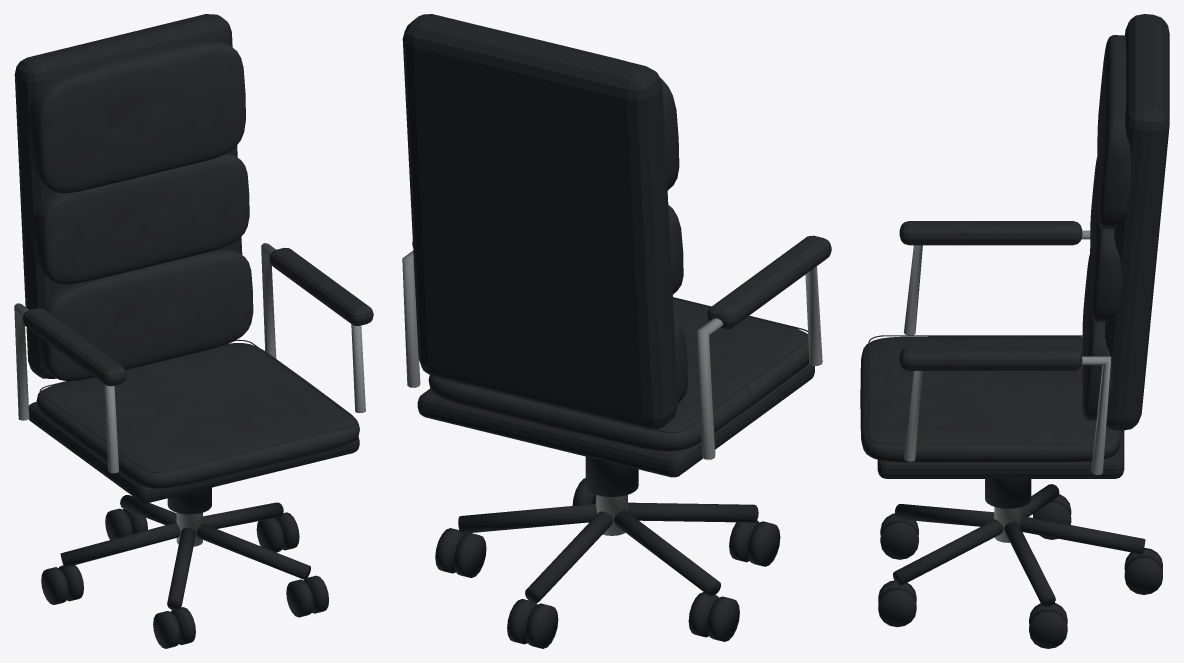
The model's file is FUR_Chair.fbx.
The picture shows the model from 3 angles, left to right: view 1: azimuth 30°, elevation 25°; view 2: azimuth 150°, elevation 25°; view 3: azimuth 270°, elevation 25°; orthographic projection. The views are drawn at different scales.
Visible parts, largest first — view 1: FUR_Chair_Export; view 2: FUR_Chair_Export; view 3: FUR_Chair_Export.
Part boxes in pixels (left/top/right/bottom): FUR_Chair_Export: left=14, top=14, right=373, bottom=648; FUR_Chair_Export: left=402, top=14, right=831, bottom=648; FUR_Chair_Export: left=860, top=14, right=1169, bottom=648.
Size of the model in its own units: 0.66 by 1.18 by 0.6272.
3 materials, 1 textured.
